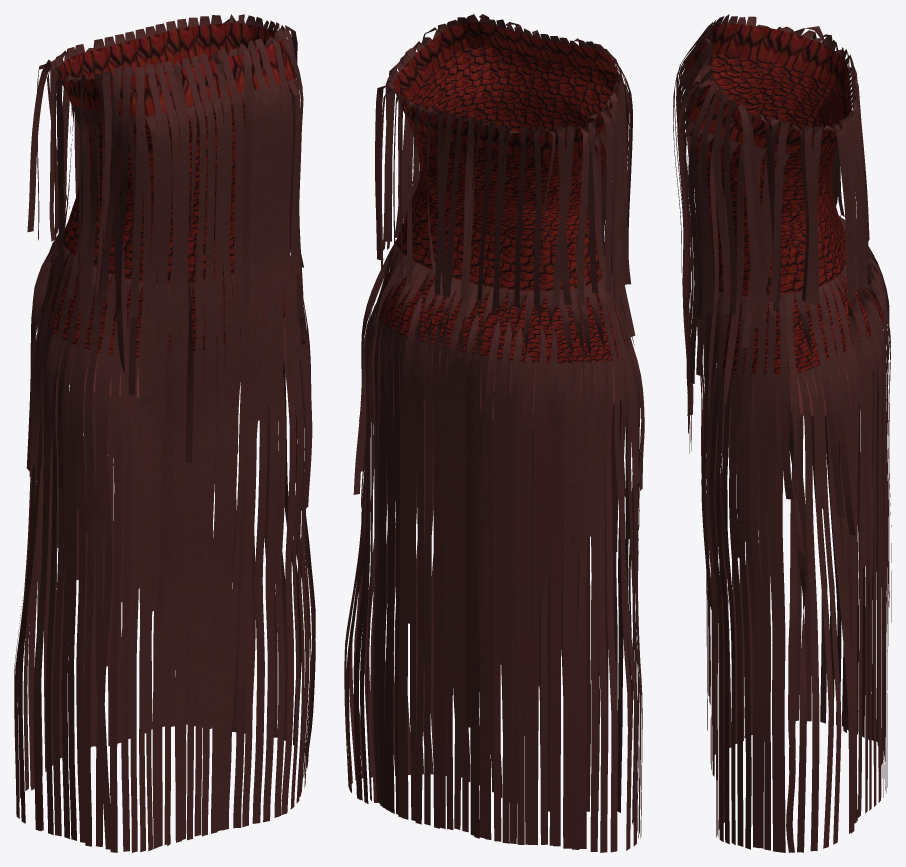
The model's file is elvs-fringe-off-shoulder-dress.glb.
3 renders of one model, left to right at view 1: azimuth 30°, elevation 25°; view 2: azimuth 150°, elevation 25°; view 3: azimuth 270°, elevation 25°, orthographic. The views are drawn at different scales.
Visible parts, largest first — view 1: fringe off shoulder dress; view 2: fringe off shoulder dress; view 3: fringe off shoulder dress.
Part boxes in pixels (x1=…): fringe off shoulder dress: x1=14, y1=14, x2=315, y2=852; fringe off shoulder dress: x1=344, y1=14, x2=644, y2=852; fringe off shoulder dress: x1=673, y1=14, x2=891, y2=852.
Bounding box in the file's own units: 44.1 × 115 × 30.08.
1 material, 1 textured.
